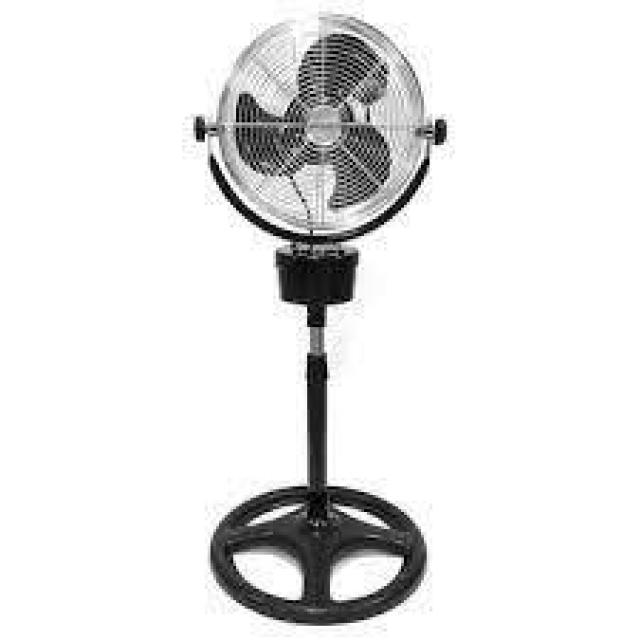fan: (178, 3, 450, 636)
